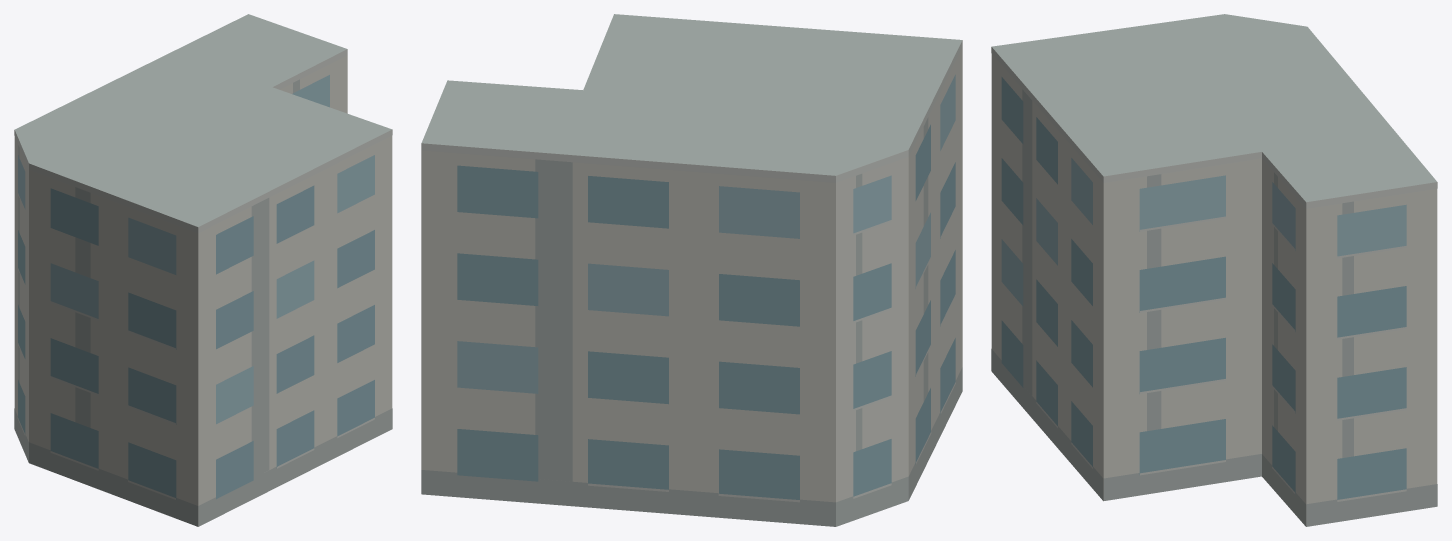
Rendered from residential-16101523-7815-4ab6-aa60-8c8d2690c98d.glb.
The picture shows the model from 3 angles, left to right: view 1: azimuth 30°, elevation 25°; view 2: azimuth 150°, elevation 25°; view 3: azimuth 270°, elevation 25°; orthographic projection. The views are drawn at different scales.
Visible parts, largest first — view 1: residential-16101523-7815-4ab6-aa60-8c8d2690c98d.tmp; view 2: residential-16101523-7815-4ab6-aa60-8c8d2690c98d.tmp; view 3: residential-16101523-7815-4ab6-aa60-8c8d2690c98d.tmp.
Part boxes in pixels (<box>): residential-16101523-7815-4ab6-aa60-8c8d2690c98d.tmp: <box>14,14,392,526</box>; residential-16101523-7815-4ab6-aa60-8c8d2690c98d.tmp: <box>421,14,962,526</box>; residential-16101523-7815-4ab6-aa60-8c8d2690c98d.tmp: <box>991,14,1437,526</box>.
Size of the model in its own units: 14.93 by 12 by 14.95.
